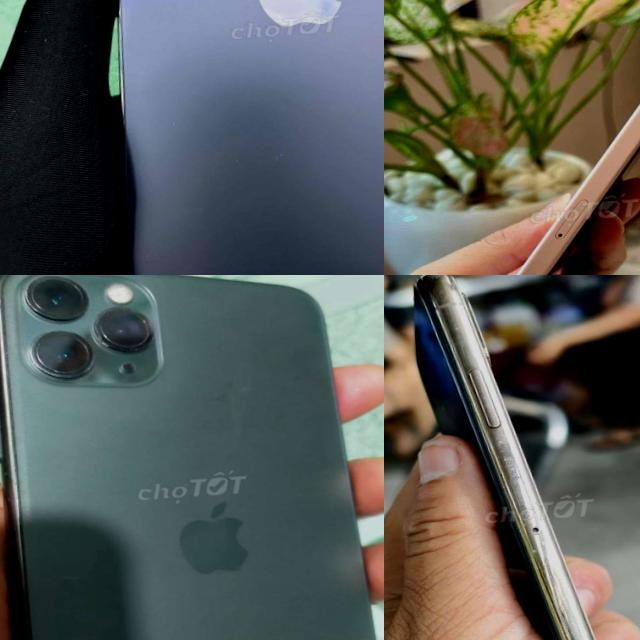gen_11: (0, 275, 374, 640)
gen_12_13: (434, 0, 640, 275)
gen_14: (85, 0, 384, 275)
gen_x_xs: (413, 275, 597, 640)
